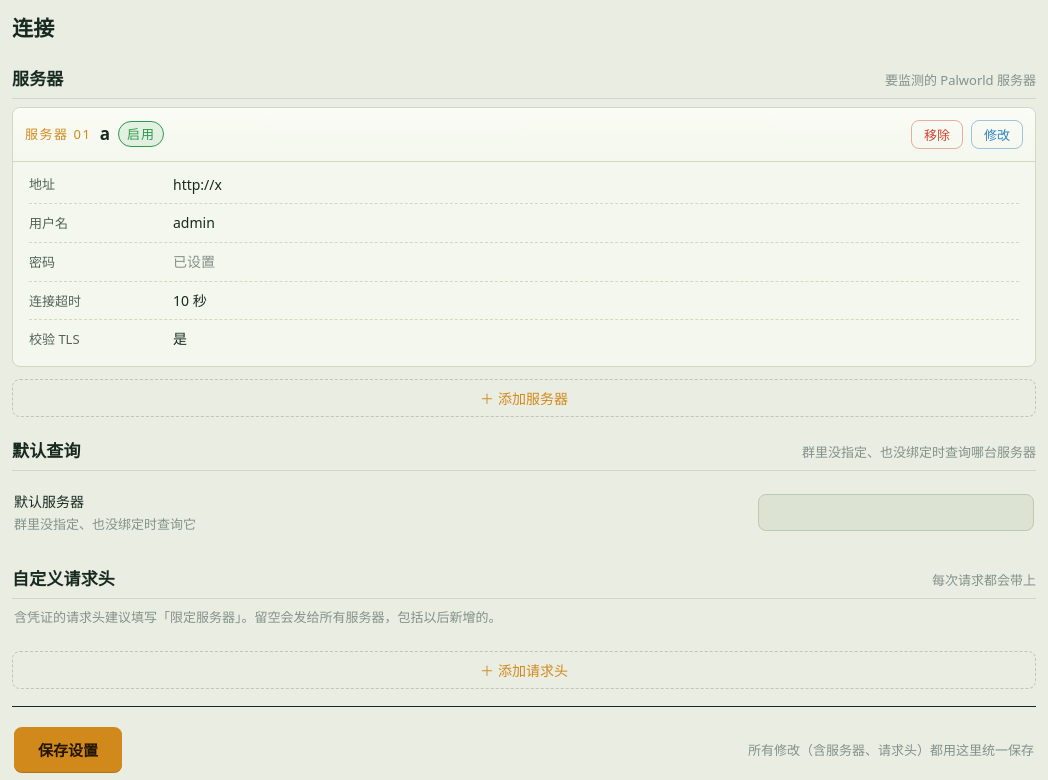
it: SettingsPanel › 改动后显示未保存提示,保存成功后消失
The image size is (1048, 780).
Expected: the text "有未保存的更改" is not shown
Click the button with class "add" showing "＋ 添加服务器" at (524, 398), box [12, 379, 1036, 417]
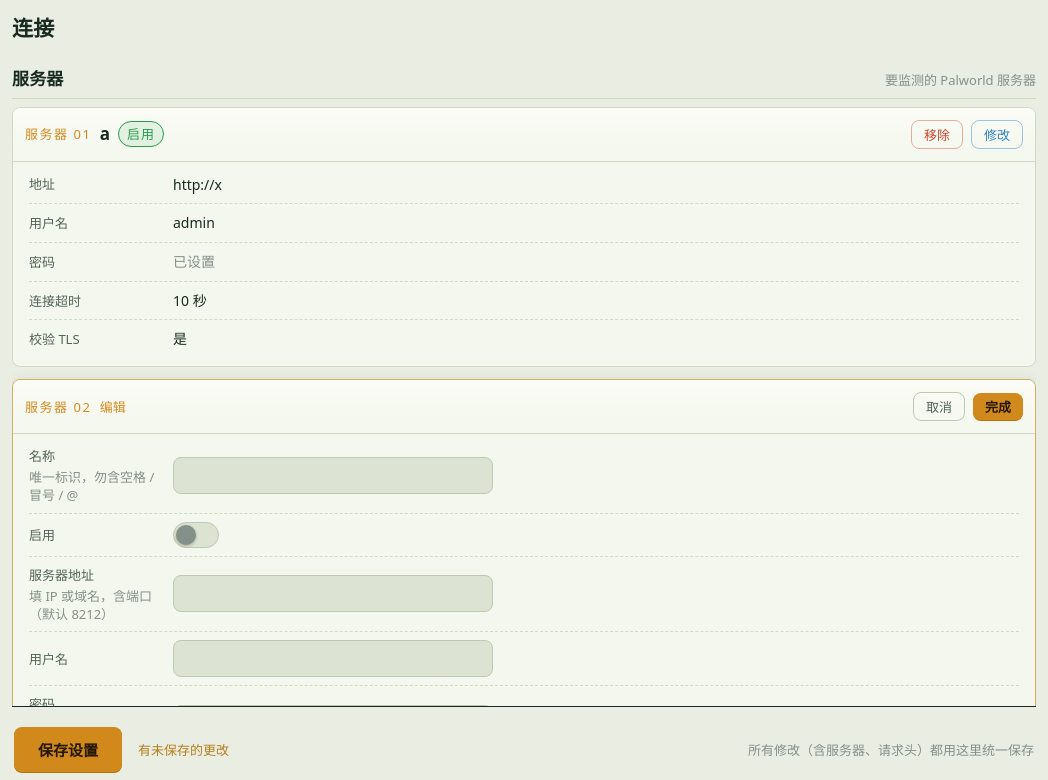
Result: the text "有未保存的更改" is shown at [138, 739, 229, 760]
Click the button "保存设置" at (68, 750), box [14, 727, 122, 772]
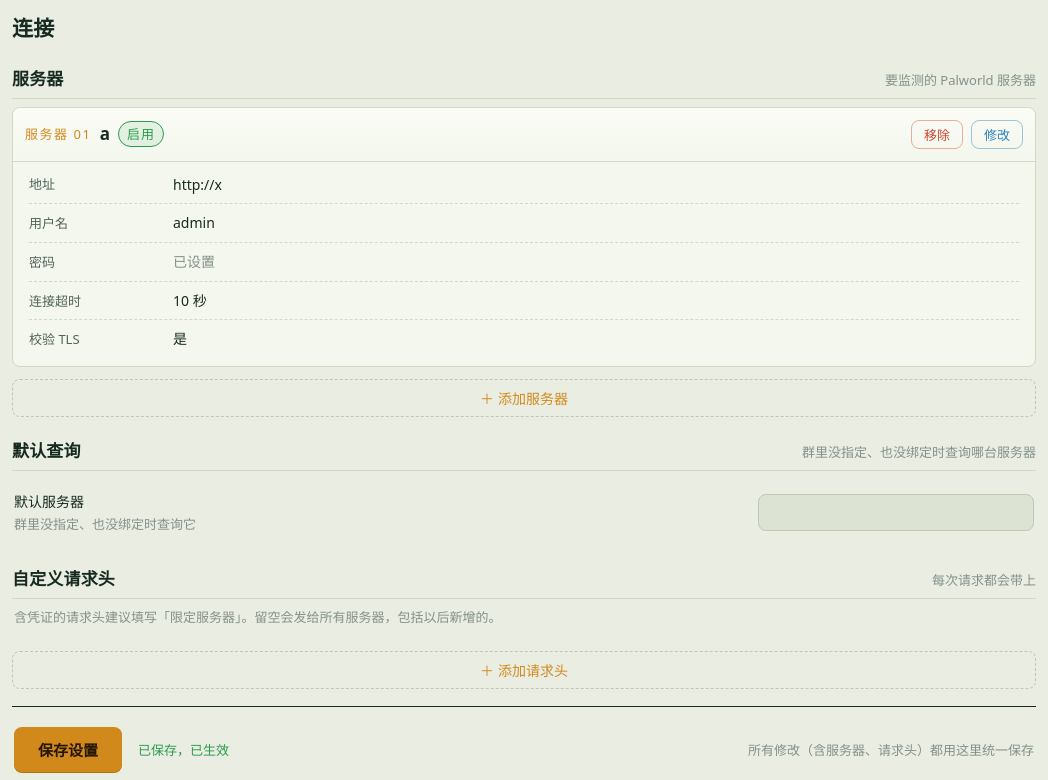
Result: the text "有未保存的更改" is gone
